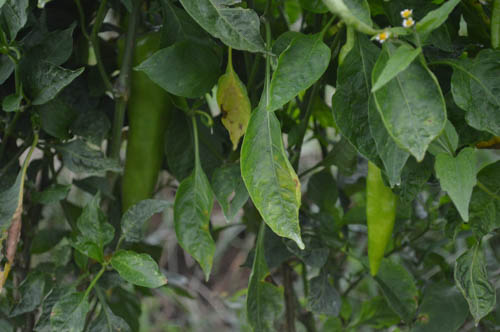ChiliPepper: (113, 37, 166, 211), (366, 162, 397, 279)
